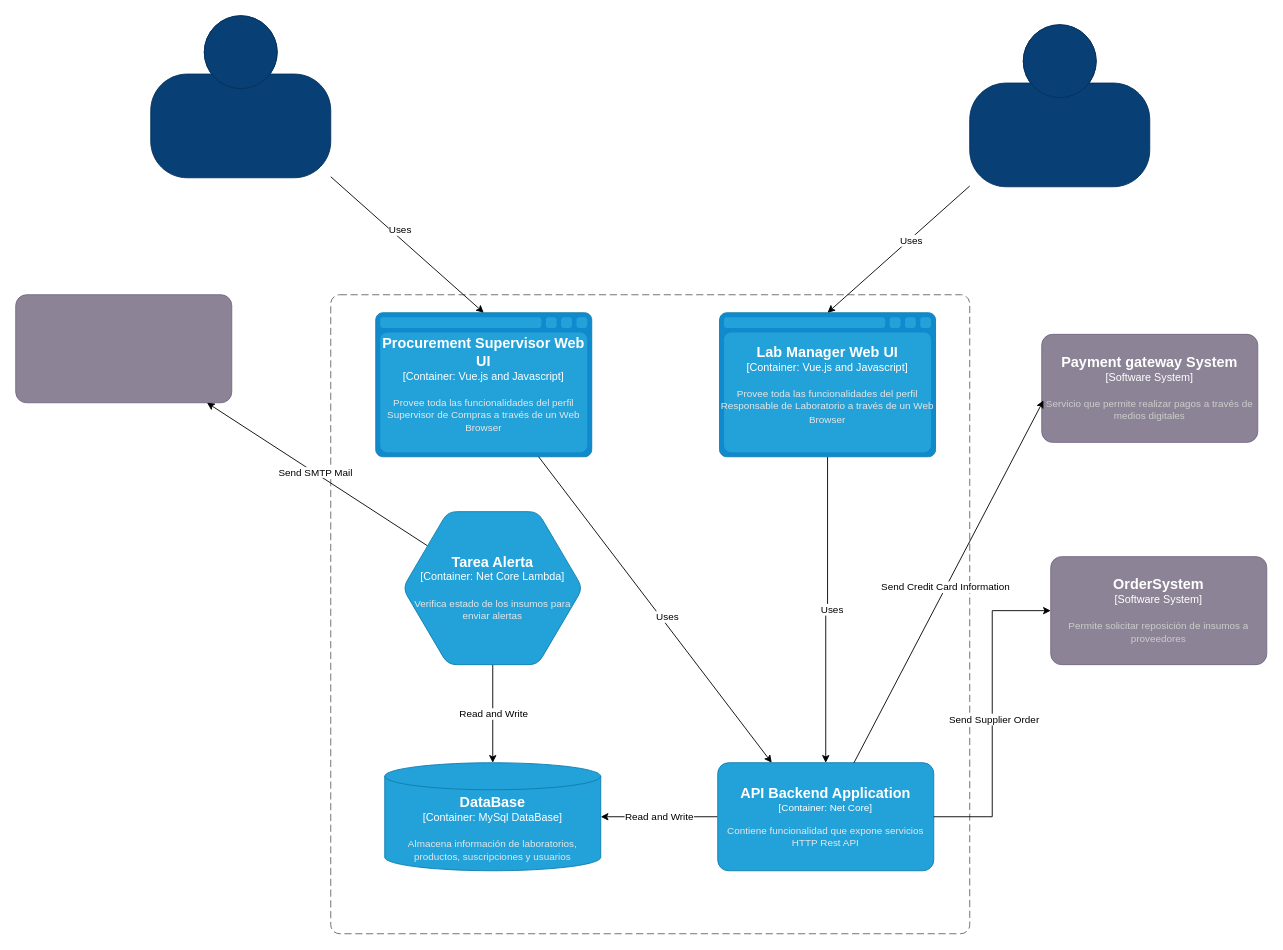
This 1283x950 diagram has some shape labels left out. Here are the shapes that lost their labels. From the top down, the box of each, then its label:
(150, 15, 331, 178): Procurement Supervisor [Person] Usuario Supervisor de Compras
(969, 24, 1150, 187): LabManager [Person] Usuario Responsable de Laboratorio
(15, 294, 232, 403): Email System [Software System] Envío de correos sobre alerta de insumos
(330, 294, 970, 934): LabIoT System [Software System]
